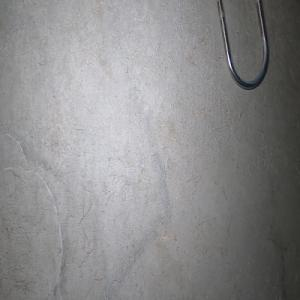ClampPart: (216, 0, 269, 90)
